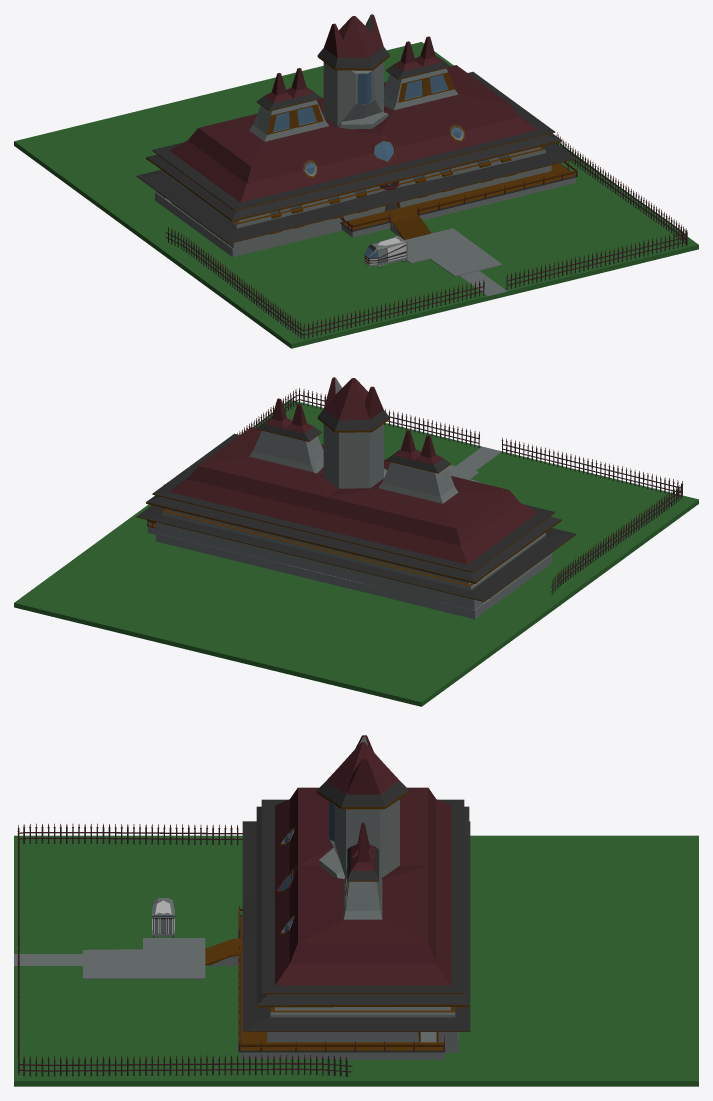
The model's file is Mansion&Outsides.fbx.
The picture shows the model from 3 angles, top to bottom: view 1: azimuth 30°, elevation 25°; view 2: azimuth 150°, elevation 25°; view 3: azimuth 270°, elevation 25°; orthographic projection. The views are drawn at different scales.
Visible parts, largest first — view 1: Grass, Mansion, MansionOutside, Bars, Floor, Truck; view 2: Grass, Mansion, Bars, Floor; view 3: Grass, Mansion, MansionOutside, Bars, Truck.
Part boxes in pixels (x1,y1,x2,y2): Grass: (14, 42, 698, 348); Mansion: (136, 14, 576, 248); MansionOutside: (340, 162, 577, 276); Bars: (165, 132, 687, 339); Floor: (155, 192, 398, 257); Truck: (364, 235, 407, 267); Grass: (14, 400, 698, 706); Mansion: (136, 377, 576, 610); Bars: (164, 388, 683, 595); Floor: (156, 533, 552, 619); Grass: (14, 835, 698, 1086); Mansion: (242, 735, 470, 1042); MansionOutside: (83, 906, 444, 1059); Bars: (17, 823, 352, 1076); Truck: (152, 898, 174, 937).
Size of the model in its own units: 98.29 by 41.16 by 116.
